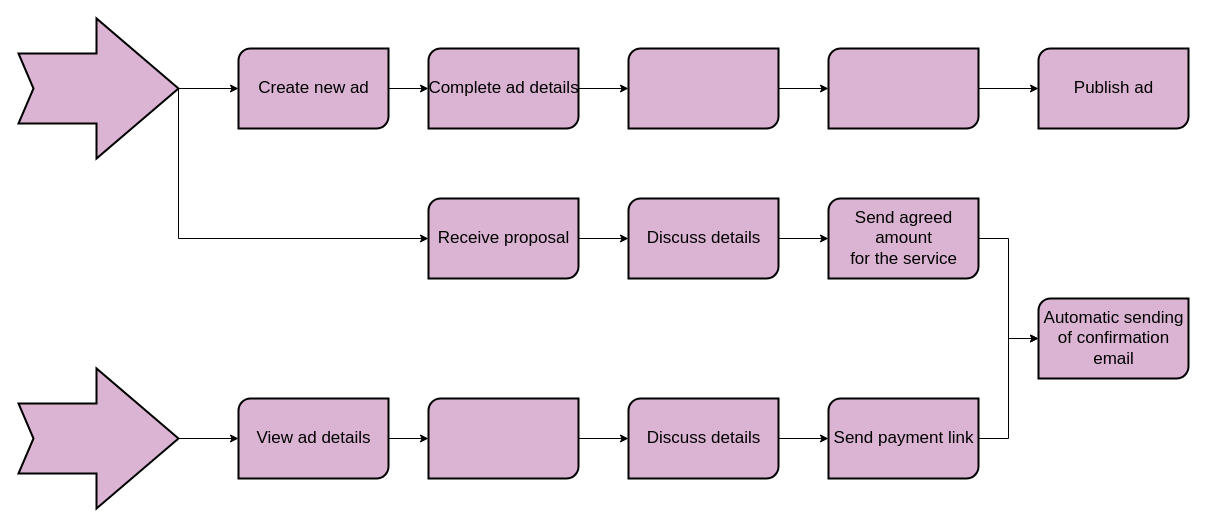
Image size: 1206x526. Some labels were removed from this diagram. The centre of each missing label's shape, as x and y in pixels:
"Add photo" belongs at [703,88].
"Contact requester" belongs at [503,438].
"Pick pricing" belongs at [903,88].
"View all ads (services provider)" belongs at [98,438].
"View user ads (services requester)" belongs at [98,88].
